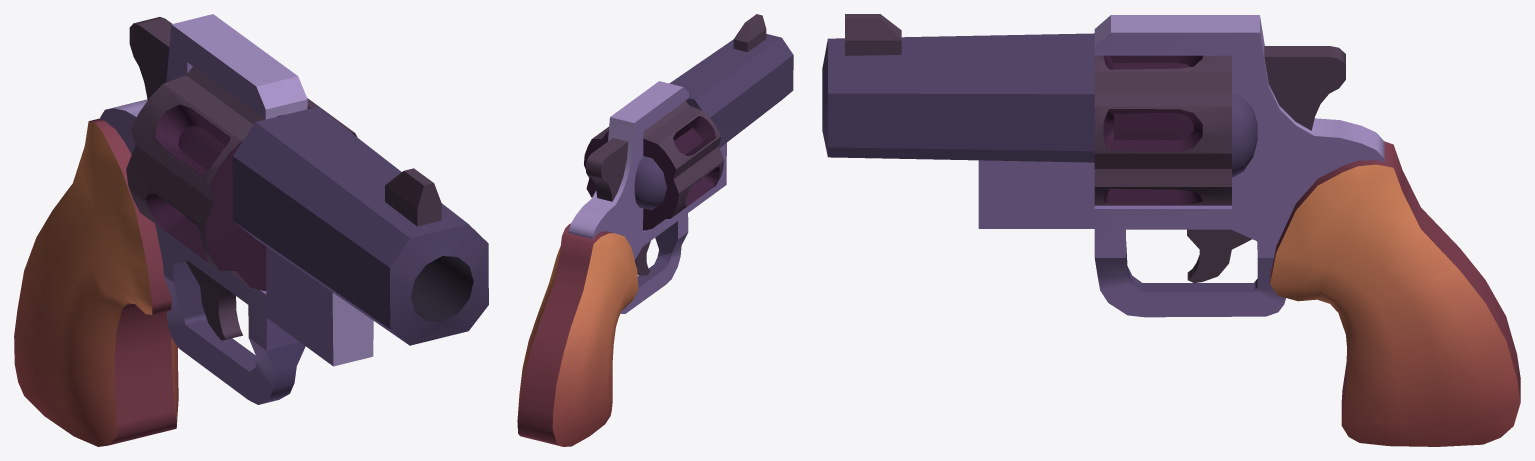
Rendered from REVOLVER.fbx.
3 views of the same model, side by side, from view 1: azimuth 30°, elevation 25°; view 2: azimuth 150°, elevation 25°; view 3: azimuth 270°, elevation 25° (orthographic). The views are drawn at different scales.
Visible parts, largest first — view 1: Revolver; view 2: Revolver; view 3: Revolver.
Boxes of the visible parts, x1,y1,x2,y2 form: Revolver: [14, 14, 488, 446]; Revolver: [517, 14, 793, 446]; Revolver: [822, 14, 1520, 446].
Bounding box in the file's own units: 0.3363 × 0.9144 × 1.41.
1 material, 1 textured.
